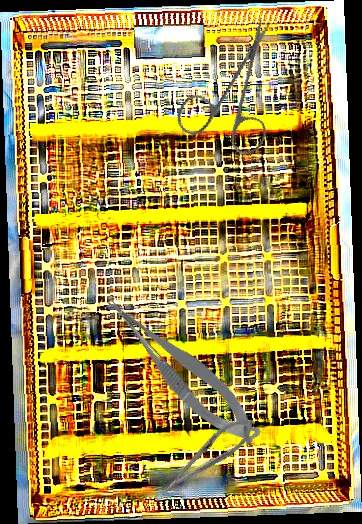Iris Scissors: (154, 17, 313, 174)
Micro Scissor: (100, 278, 267, 461)
Needle Holder: (154, 408, 262, 503)
